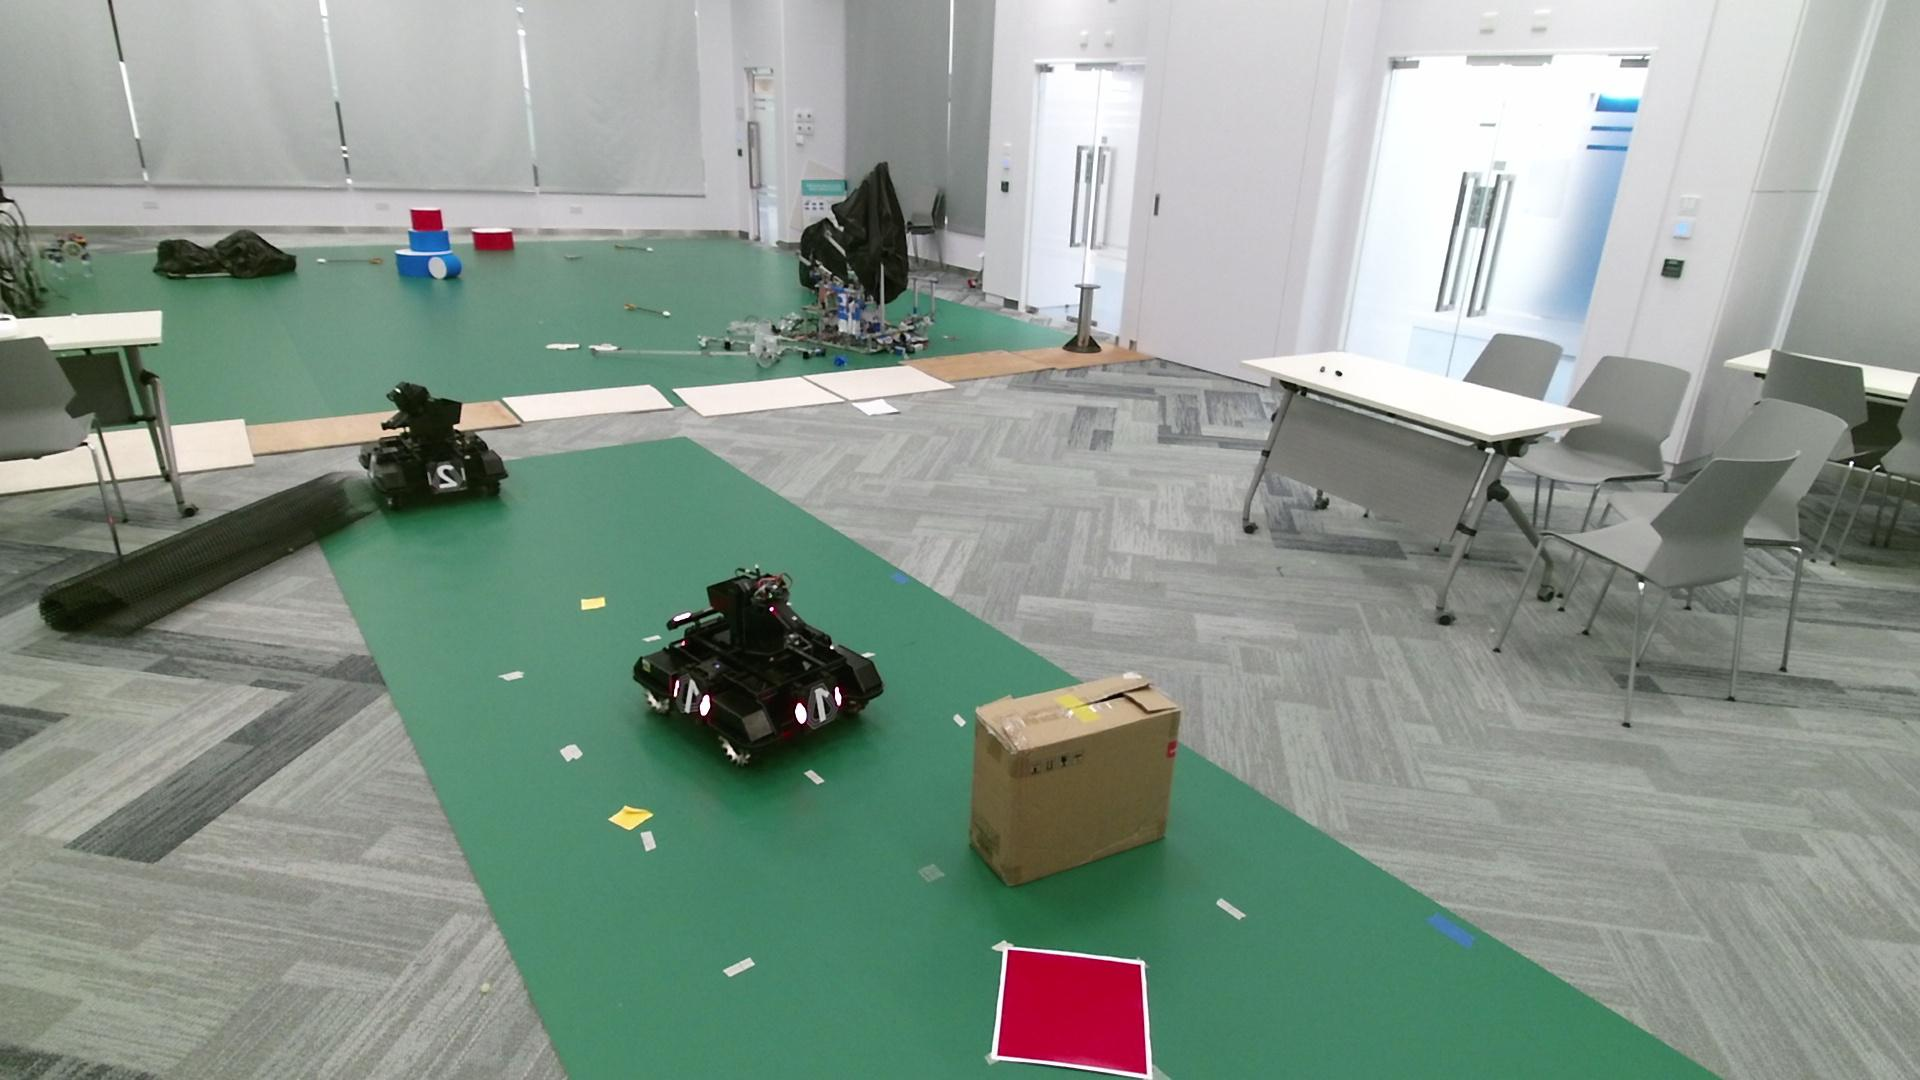robot: (633, 564, 886, 770), (357, 381, 509, 512)
